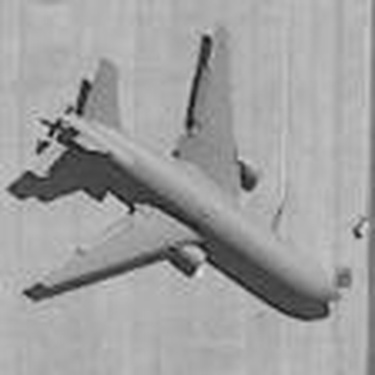airplane: (12, 17, 350, 338)
